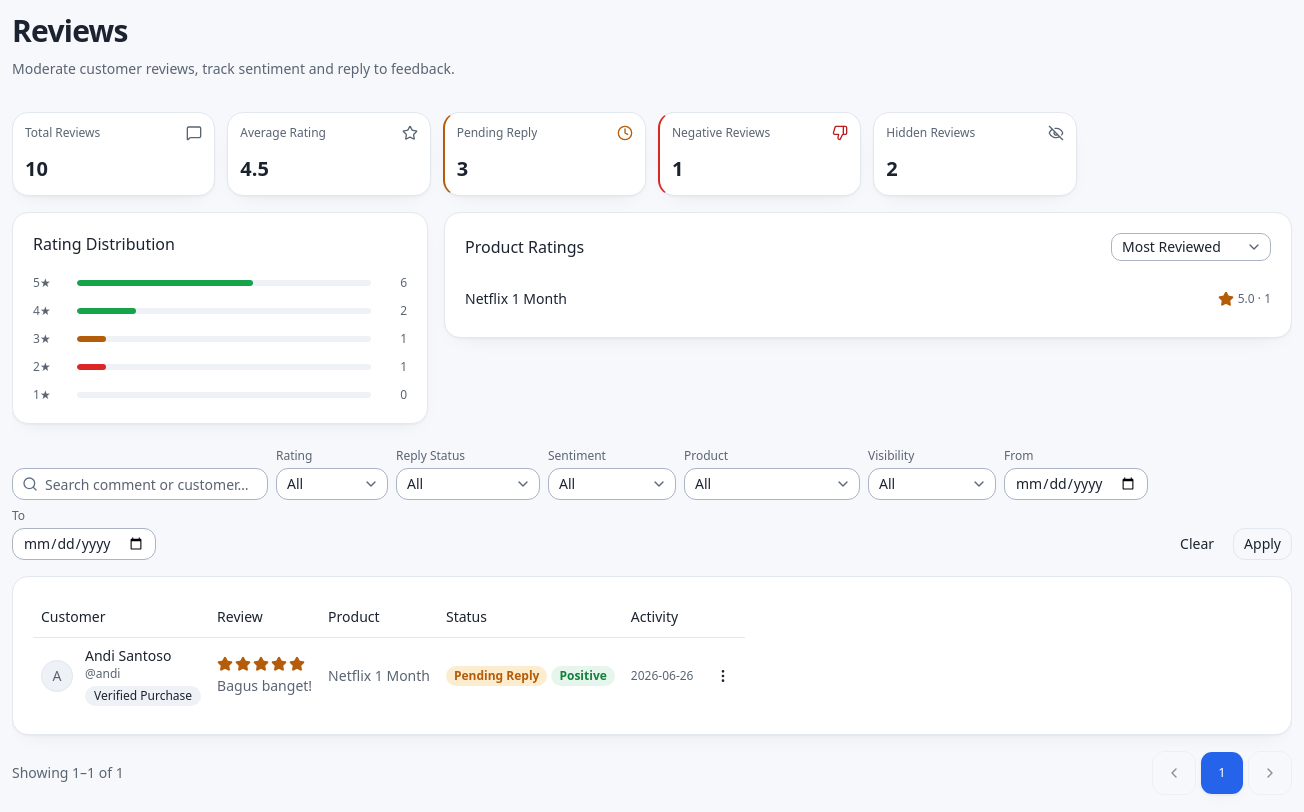
Scenario: ReviewsPage › shows a toast when hiding a review fails (previously silently swallowed)
Expected: the text "Bagus banget!" is shown, [217,676,312,696]
Click the button named "Actions for review #1" at (724, 676), box [710,662,738,690]
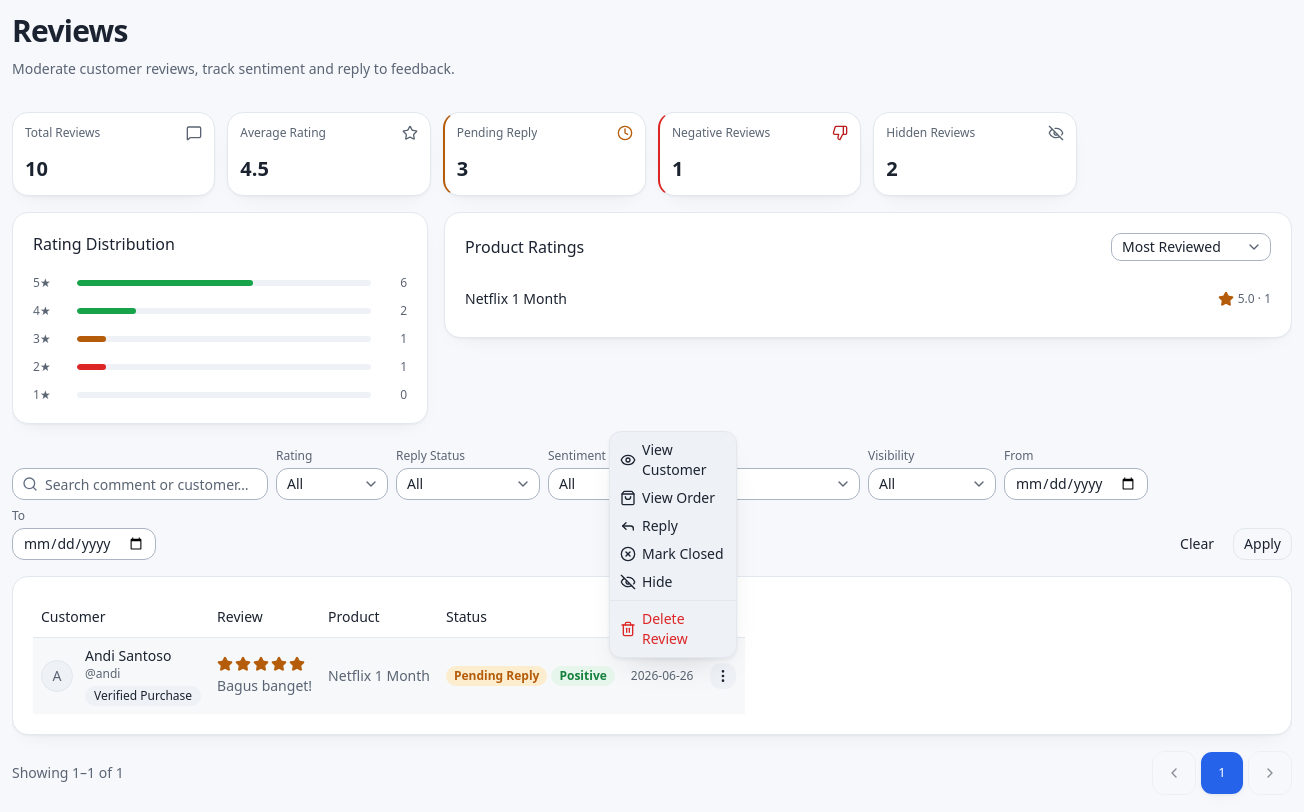
Click the menu item "Hide" at (646, 582), box [620,572,672,591]
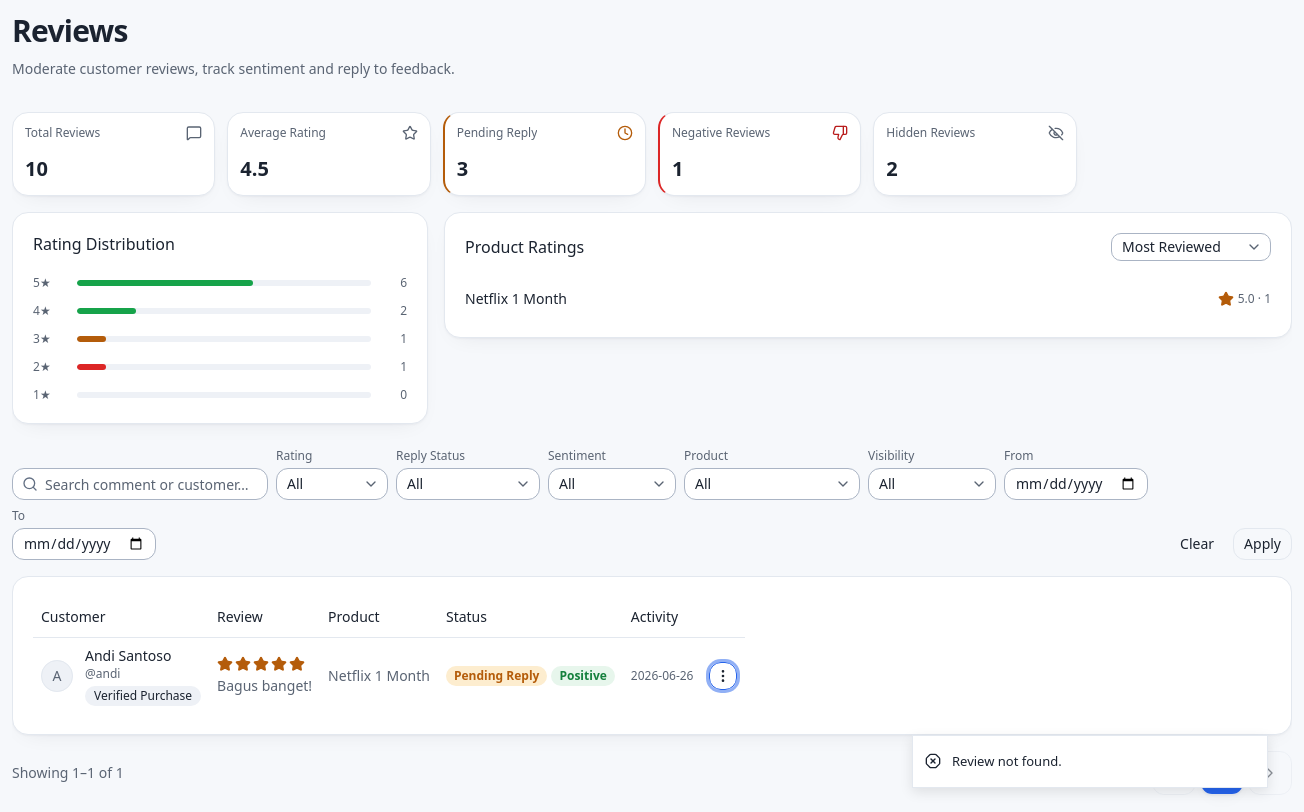
Result: the text "Review not found." is shown at [952,752,1062,771]
